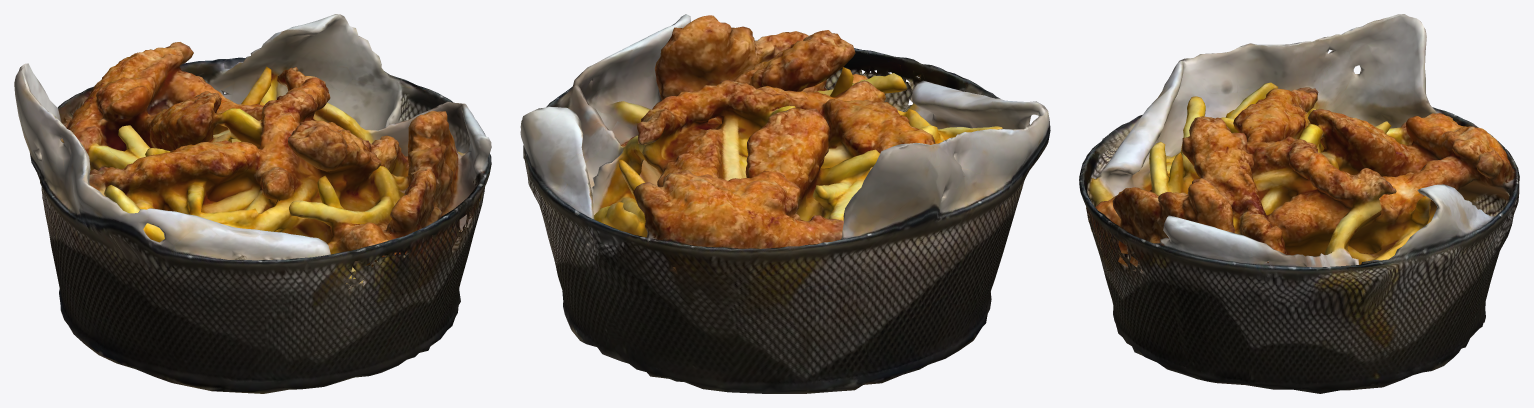
Rendered from citirtavuk.glb.
3 renders of one model, left to right at view 1: azimuth 30°, elevation 25°; view 2: azimuth 150°, elevation 25°; view 3: azimuth 270°, elevation 25°, orthographic. The views are drawn at different scales.
Size of the model in its own units: 0.76 by 0.4292 by 0.7583.
1 material, 1 textured.
